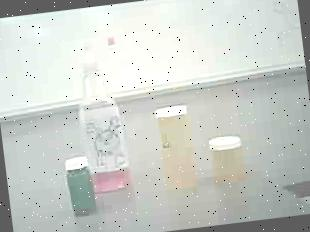Bottle A: (150, 94, 206, 198)
Bottle B: (201, 118, 255, 194)
Bottle C: (58, 151, 100, 219)
hazard: (68, 29, 147, 198)
